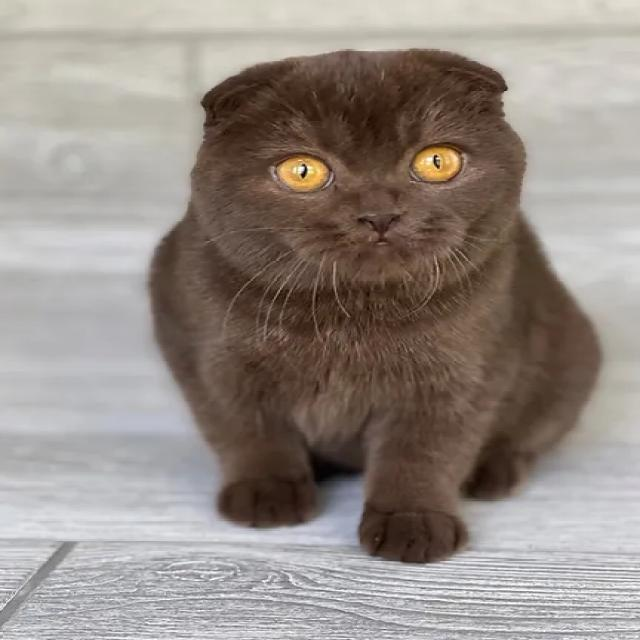Scottish Fold: (141, 41, 611, 571)
